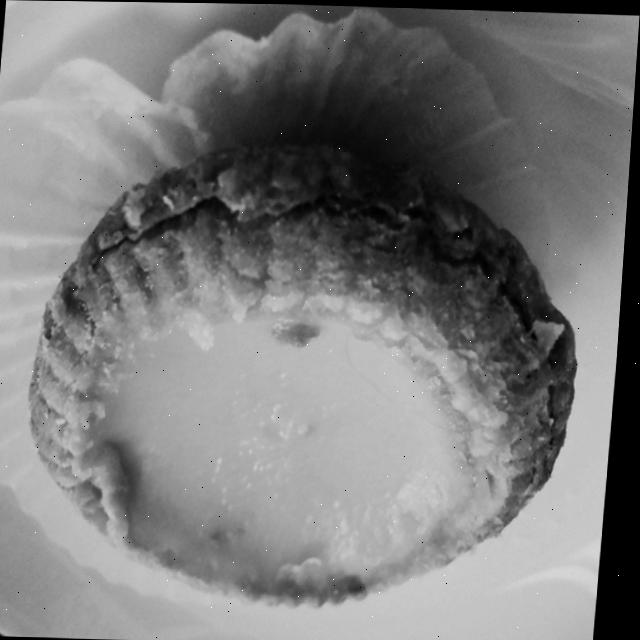炸货点心: (9, 123, 601, 624)
蛋糕甜品: (9, 123, 601, 624)
